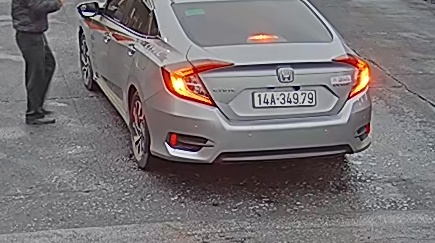vehicle plate: (251, 88, 320, 109)
